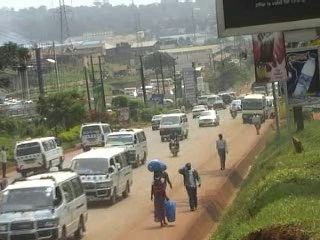Car: (197, 108, 221, 128), (147, 112, 165, 131), (167, 107, 187, 120), (190, 104, 206, 118), (211, 97, 228, 110), (230, 97, 243, 112)
Motorcycle: (164, 136, 180, 158), (229, 107, 237, 119)
